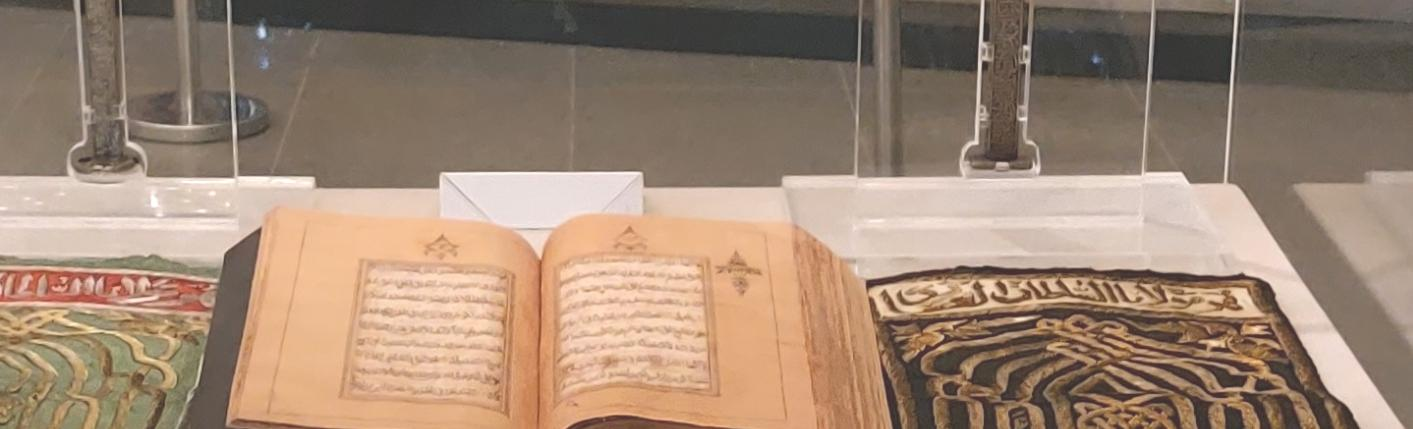The_HolyQuran: (195, 213, 902, 429)
